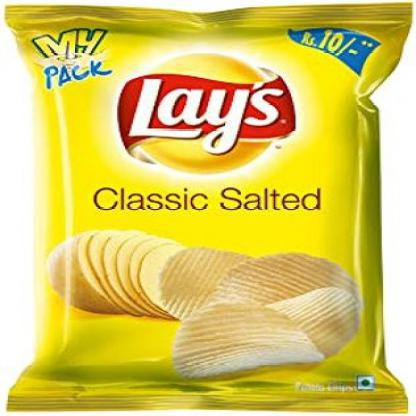classicsalted: (3, 1, 411, 413)
